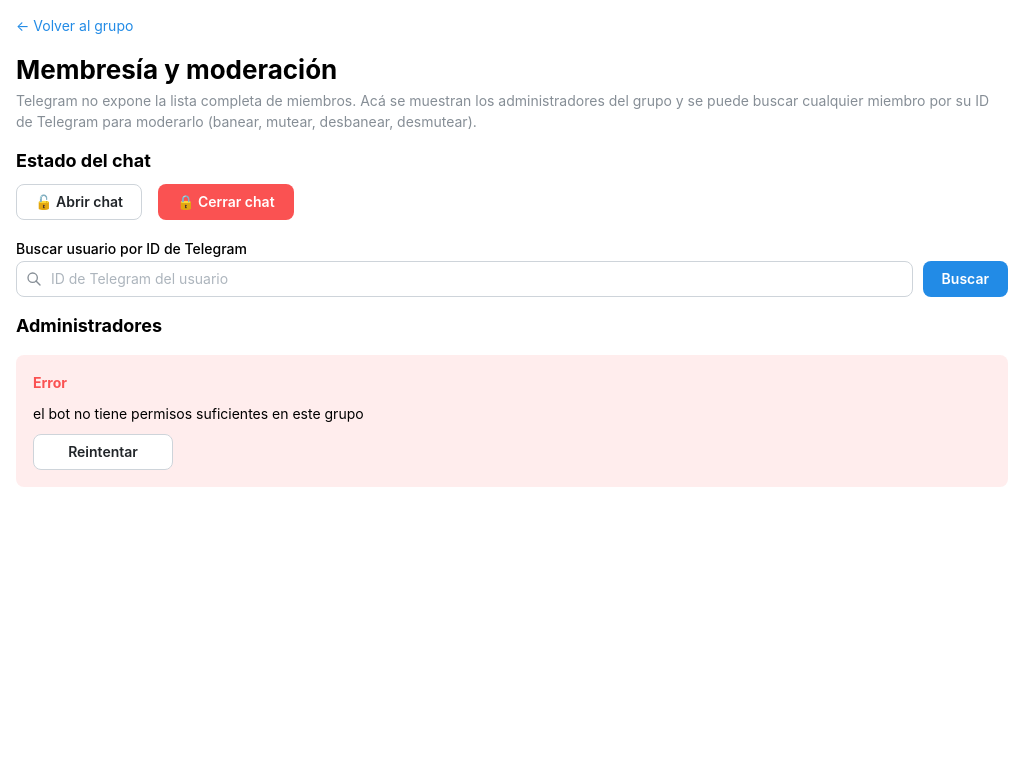
Scenario: GroupUsersPage › muestra error de carga y permite reintentar
expect the text "el bot no tiene permisos suficientes en este grupo" is shown: met, box 33,405 -> 364,422
Click the button "Reintentar" at x=103, y=452, box 33,434 -> 173,470
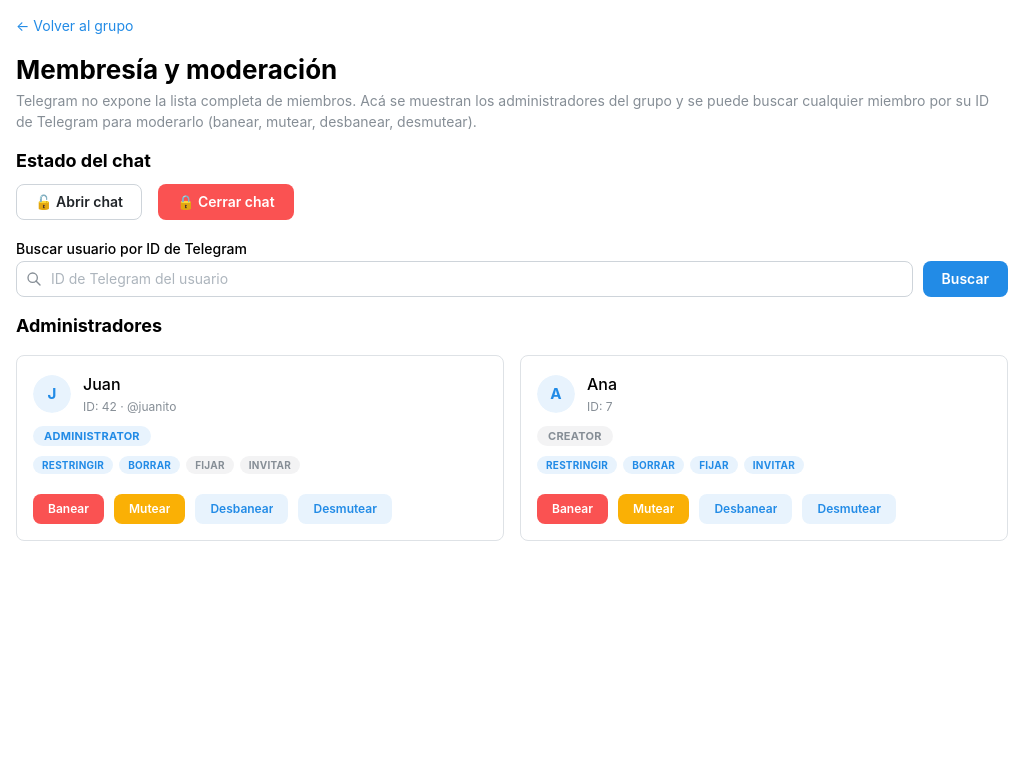
expect the text "Juan" is shown: met, box 83,374 -> 120,394
